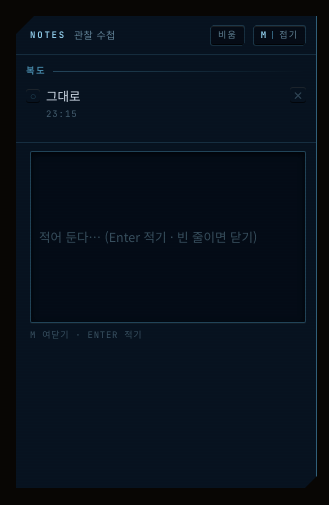
Test: 줄 다루기 › 고치다 Esc 를 누르면 무른다
Step 1. Click the text "그대로" → (63, 95), box [46,86,80,105]
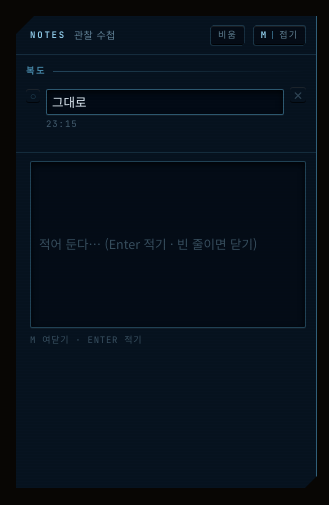
Step 2. Replace the text in the field showing "그대로" with "엉뚱하게" → (165, 102), box [46,89,284,116]
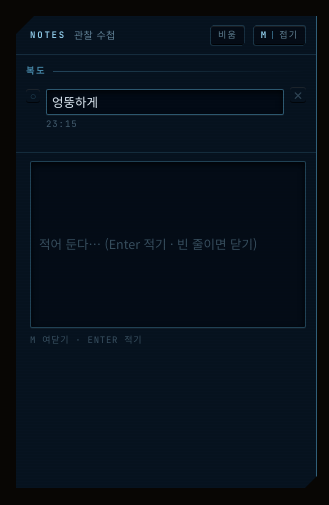
Step 3. Press Escape in the field showing "그대로", box [46,89,284,116]
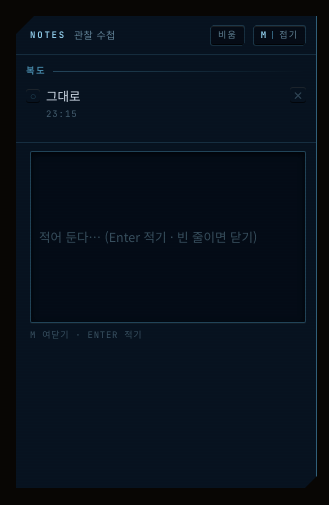
expect the text "그대로" is shown: met, box [46,86,80,105]
